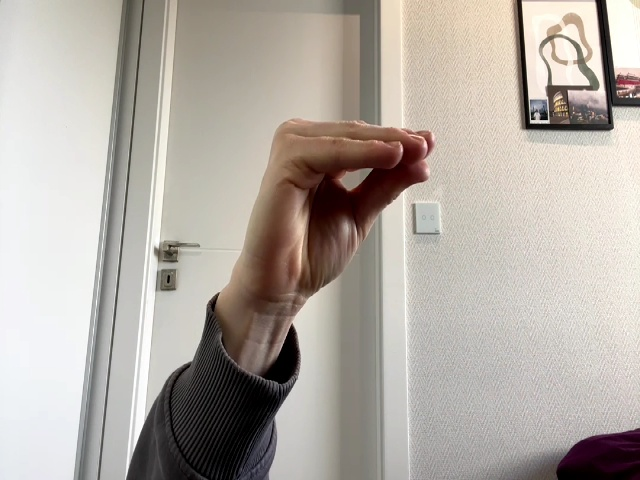E: (230, 118, 435, 320)
